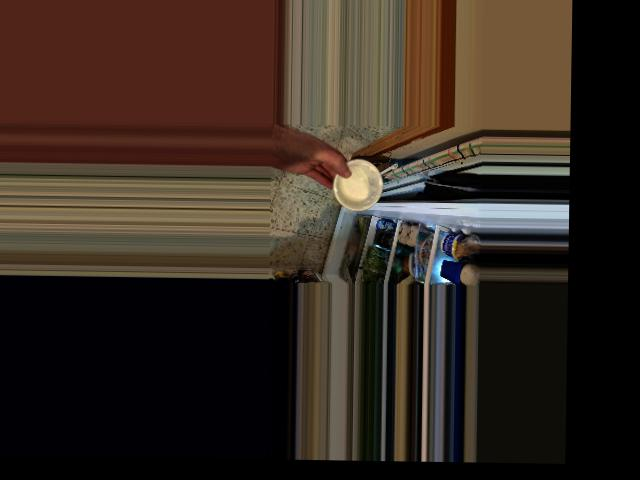cotage: (338, 161, 383, 208)
